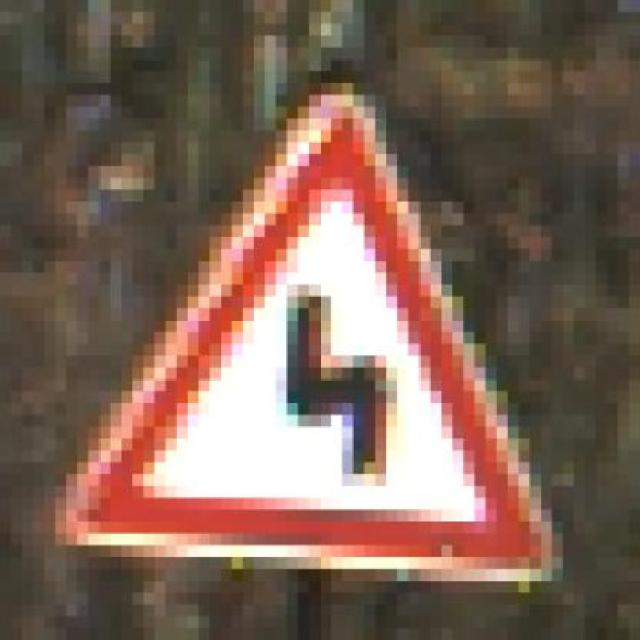Left Zig Zag Traffic: (56, 83, 564, 605)
